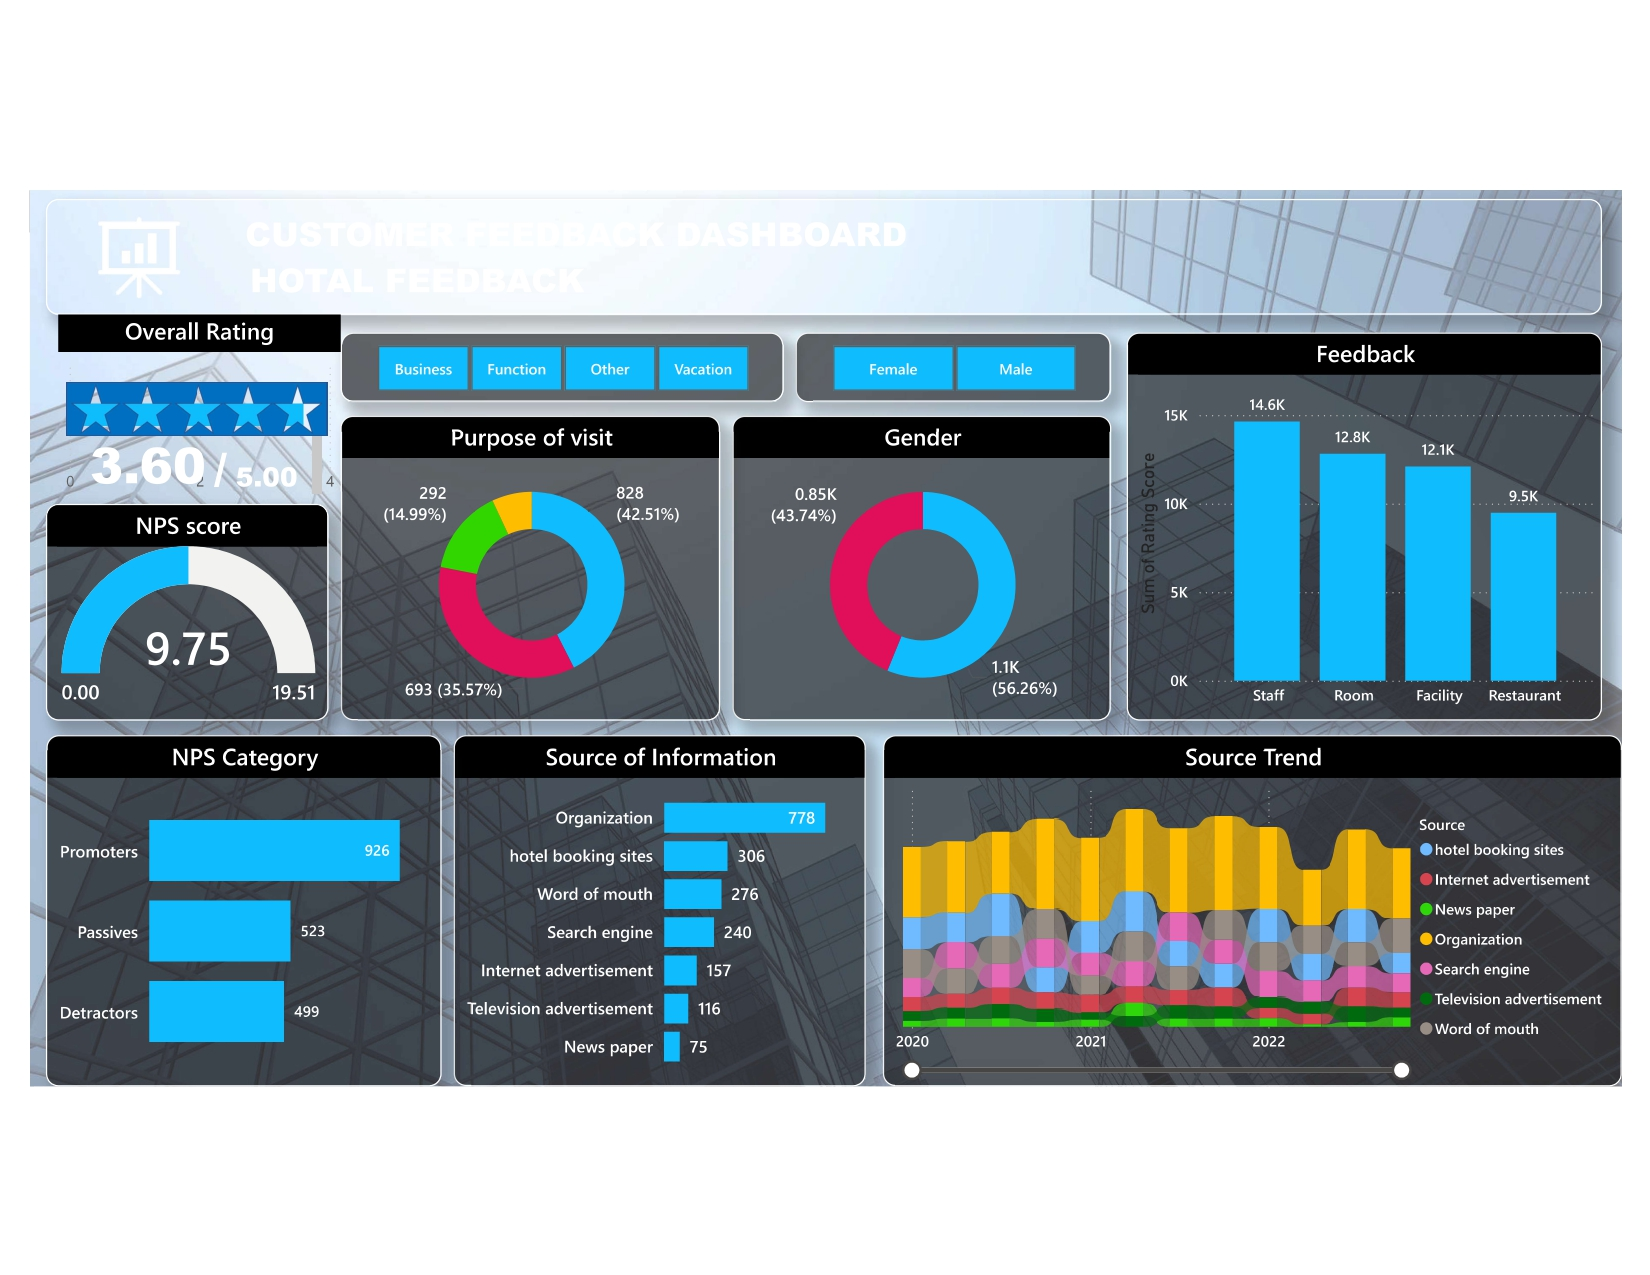

This screenshot's page, from the dashboard's own definition file:
{"tool":"powerbi","page":{"name":"Customer Analytics","canvas":[1280,720],"ordinal":0},"visuals":[{"type":"ribbonChart","title":"Source Trend","fields":{"Category":["General.Checkout Date (bins)"],"Y":["CountNonNull(General.Source)"],"Series":["General.Source"]},"box":[686.3,437.6,594.1,282.4],"z":0},{"type":"clusteredBarChart","title":"Source of Information","fields":{"Category":["General.Source"],"Y":["CountNonNull(General.Source)"]},"box":[341,437.6,330.7,282.4],"z":1000},{"type":"clusteredBarChart","title":"NPS Category","fields":{"Y":["CountNonNull(General.NPS)"],"Category":["General.NPS"]},"box":[13.2,437.6,317.6,282.4],"z":2000},{"type":"donutChart","title":"Gender","fields":{"Category":["General.Gender"],"Y":["CountNonNull(General.Gender)"]},"box":[564.9,181.5,304.4,244.4],"z":3000},{"type":"donutChart","title":"Purpose of visit","fields":{"Category":["General.Purpose"],"Y":["CountNonNull(General.Purpose)"]},"box":[250.2,181.5,304.4,244.4],"z":4000},{"type":"gauge","fields":{"Y":["General.NPS score"]},"box":[13.2,251.7,226.8,174.1],"z":5000},{"type":"slicer","fields":{"Values":["General.Gender"]},"box":[616.1,114.1,253.2,55.6],"z":6000},{"type":"slicer","fields":{"Values":["General.Purpose"]},"box":[250.2,114.1,355.6,55.6],"z":7000},{"type":"clusteredColumnChart","title":"Feedback","fields":{"Y":["Sum(Feedback.Rating Score 1)"],"Category":["Feedback.Category"]},"box":[882.4,114.1,382,311.7],"z":8000},{"type":"textbox","box":[13.2,7.3,1251.2,92.2],"z":9000},{"type":"image","box":[13.2,7.3,147.8,92.2],"z":10000},{"type":"clusteredBarChart","title":"Overall Rating","fields":{"Y":["Avg(General.overall experience)"]},"box":[23.4,99.5,226.8,152.2],"z":11000},{"type":"card","fields":{"Values":["Avg(General.overall experience)"]},"box":[0,169.8,190.2,99.5],"z":12000},{"type":"textbox","box":[143.4,191.7,96.6,60],"z":13000},{"type":"image","box":[0,149.3,267.8,52.7],"z":14000}]}

Visuals, with their boxes in screenshot pixels (x1, y1, x2, y2):
"Source Trend" ribbonChart: rect(880, 739, 1609, 1085)
"Source of Information" clusteredBarChart: rect(457, 739, 862, 1085)
"NPS Category" clusteredBarChart: rect(55, 739, 444, 1085)
"Gender" donutChart: rect(731, 425, 1105, 724)
"Purpose of visit" donutChart: rect(345, 425, 719, 724)
gauge - General.NPS score: rect(55, 511, 333, 724)
slicer - General.Gender: rect(794, 342, 1105, 410)
slicer - General.Purpose: rect(345, 342, 781, 410)
"Feedback" clusteredColumnChart: rect(1121, 342, 1589, 724)
textbox: rect(55, 211, 1589, 324)
image: rect(55, 211, 236, 324)
"Overall Rating" clusteredBarChart: rect(67, 324, 345, 511)
card - Avg(General.overall experience): rect(39, 410, 272, 532)
textbox: rect(215, 437, 333, 511)
image: rect(39, 385, 367, 450)
